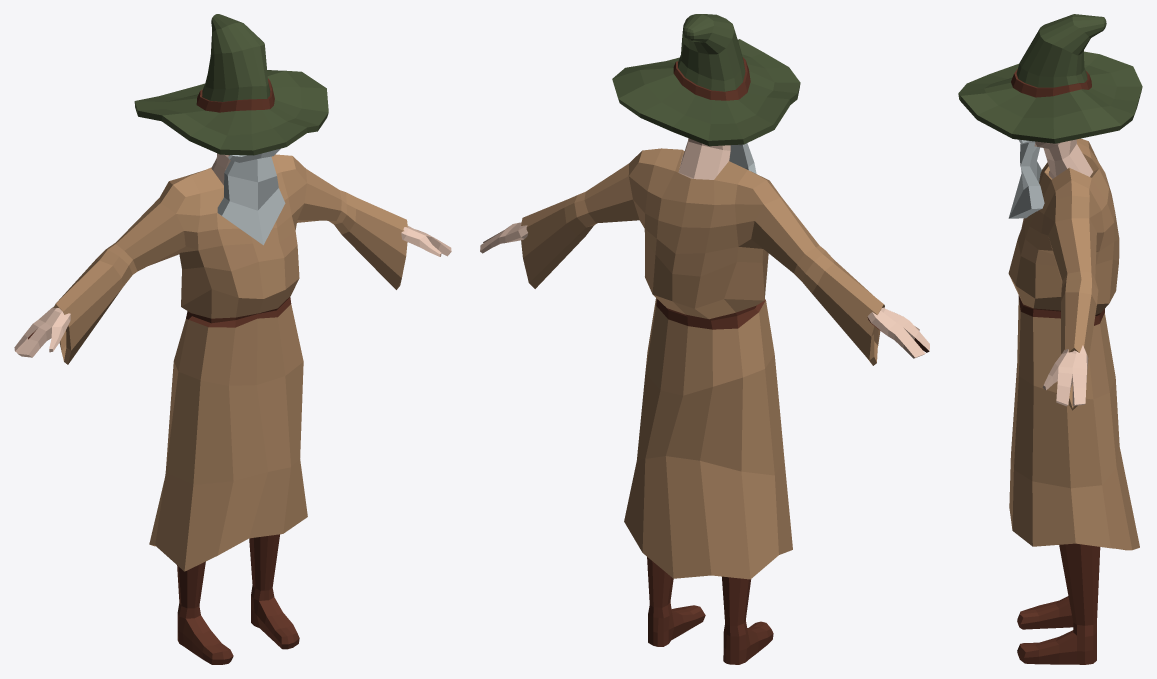
Rendered from Peasant_Wizard.fbx.
3 views of the same model, side by side, from view 1: azimuth 30°, elevation 25°; view 2: azimuth 150°, elevation 25°; view 3: azimuth 270°, elevation 25° (orthographic). The views are drawn at different scales.
Visible parts, largest first — view 1: cloak, hat, body, beard; view 2: cloak, hat, body; view 3: cloak, hat, body, beard.
Part boxes in pixels (bbox=[...]): cloak: bbox=[53, 154, 407, 571]; hat: bbox=[134, 14, 328, 155]; body: bbox=[14, 153, 451, 664]; beard: bbox=[217, 148, 285, 245]; cloak: bbox=[521, 148, 884, 579]; hat: bbox=[612, 14, 800, 146]; body: bbox=[480, 138, 929, 664]; cloak: bbox=[1008, 138, 1139, 550]; hat: bbox=[958, 14, 1142, 143]; body: bbox=[1017, 139, 1100, 664]; beard: bbox=[1008, 139, 1044, 218].
Bounding box in the file's own units: 80.65 × 109 × 29.05.
